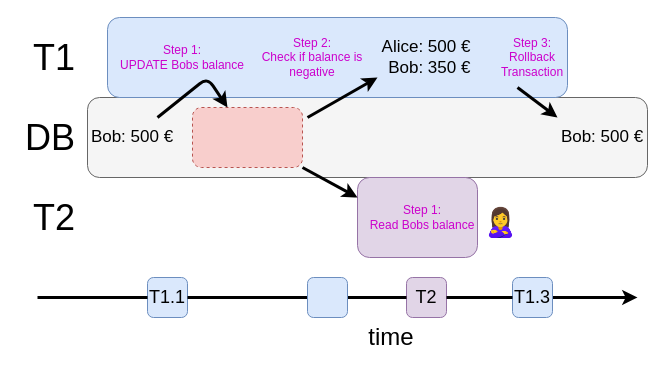
Some shapes in this 665 by 369 pixel diagram are drawn without their labels. Each missing label, with the box of its shape:
Bob: -500 €: (192, 106, 302, 168)
T1.2: (306, 276, 348, 318)
